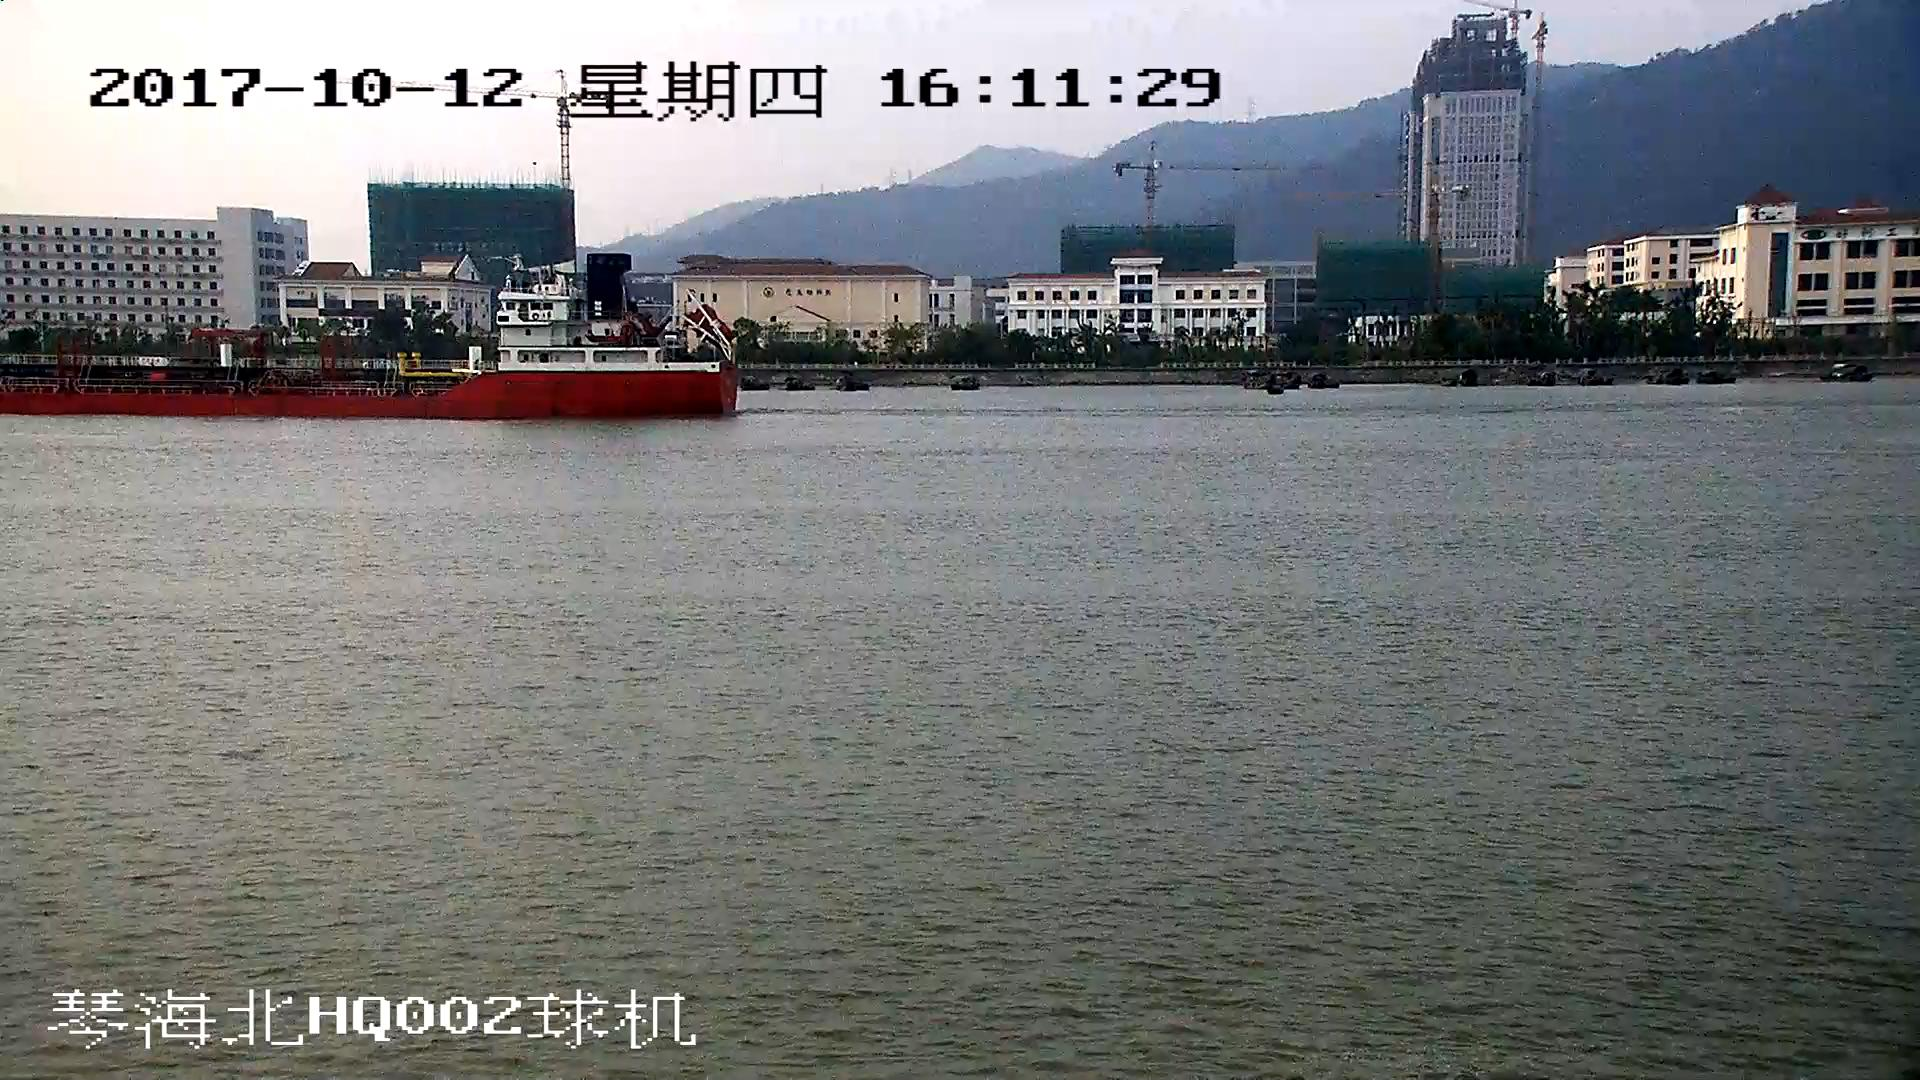general cargo ship: (1, 257, 736, 417)
